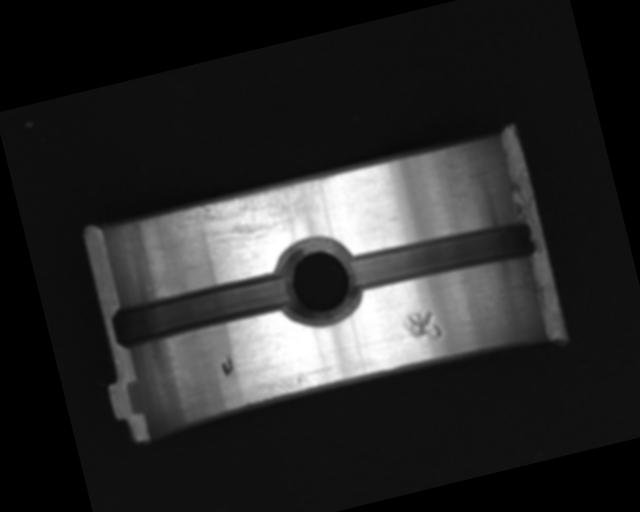blot: (218, 354, 234, 377)
bruise: (401, 307, 443, 346)
gap: (346, 212, 539, 302), (108, 268, 294, 352)
hole: (269, 229, 369, 335)
scratch: (166, 173, 346, 264)
